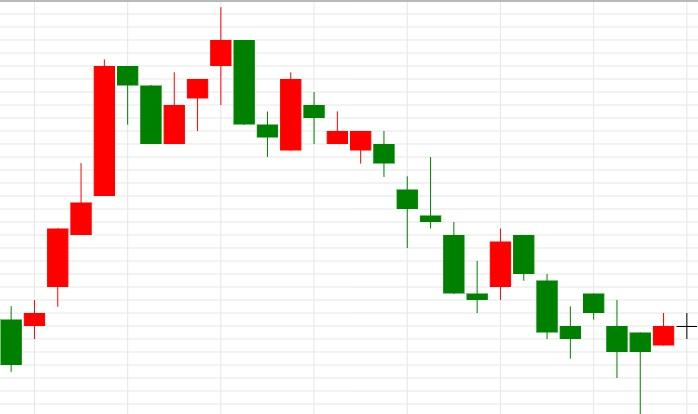hanging_man_fall: (24, 59, 138, 338)
morning_star_rise: (374, 129, 512, 314)
